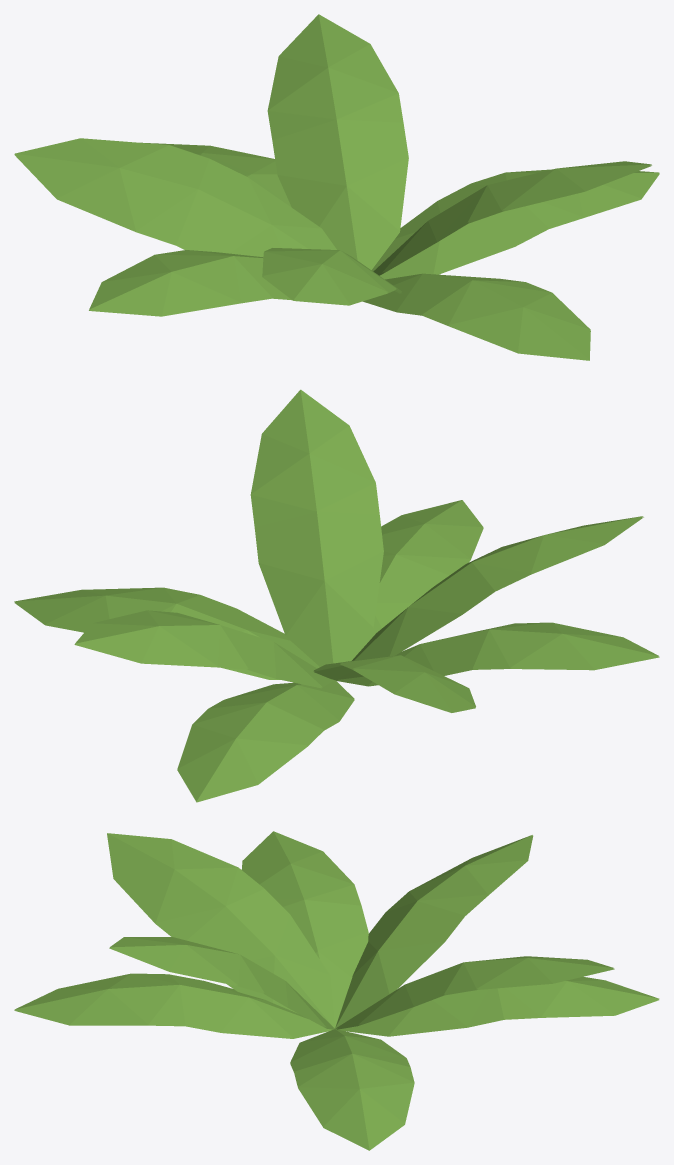
The model's file is Bush1.obj.
3 views of the same model, one above another, from view 1: azimuth 30°, elevation 25°; view 2: azimuth 150°, elevation 25°; view 3: azimuth 270°, elevation 25° (orthographic). The views are drawn at different scales.
Parts seen in each view (by area): view 1: Cylinder.001; view 2: Cylinder.001; view 3: Cylinder.001.
Part boxes in pixels (<box>): Cylinder.001: <box>14,14,659,360</box>; Cylinder.001: <box>14,389,659,802</box>; Cylinder.001: <box>14,831,659,1150</box>.
Size of the model in its own units: 1.91 by 0.5055 by 1.93.
1 material, 1 textured.
